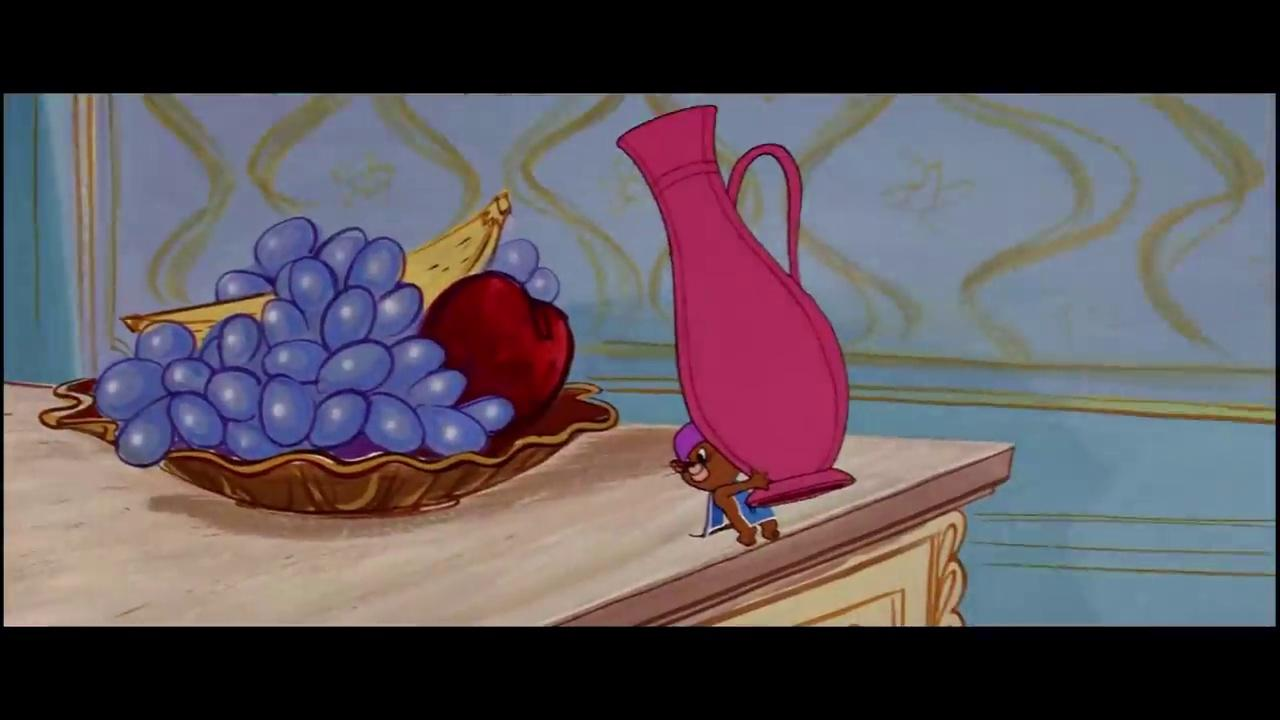Jerry: (670, 439, 782, 547)
